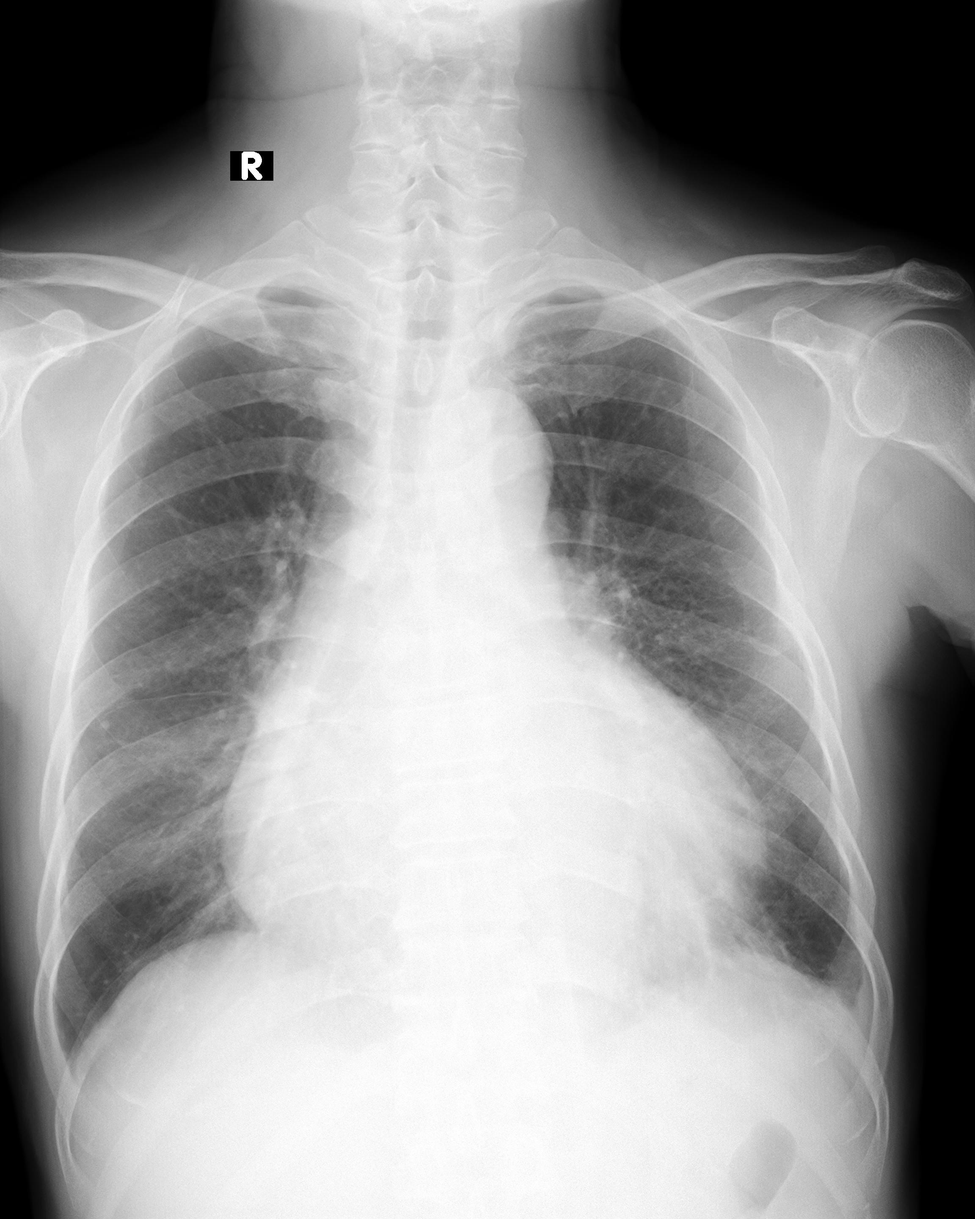Cardiomegaly: (212, 786, 772, 940)
